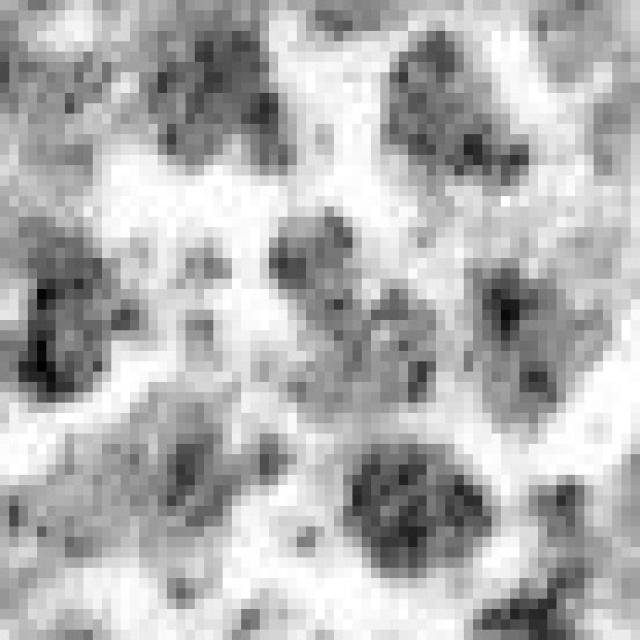inner: (252, 200, 452, 420)
lobe: (13, 372, 282, 560), (379, 26, 542, 205), (458, 259, 616, 439), (1, 212, 145, 409), (336, 432, 502, 586), (137, 9, 288, 178)
outer: (0, 0, 640, 640)
